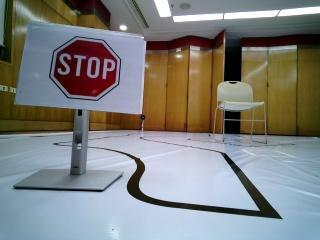stop: (33, 31, 133, 106)
